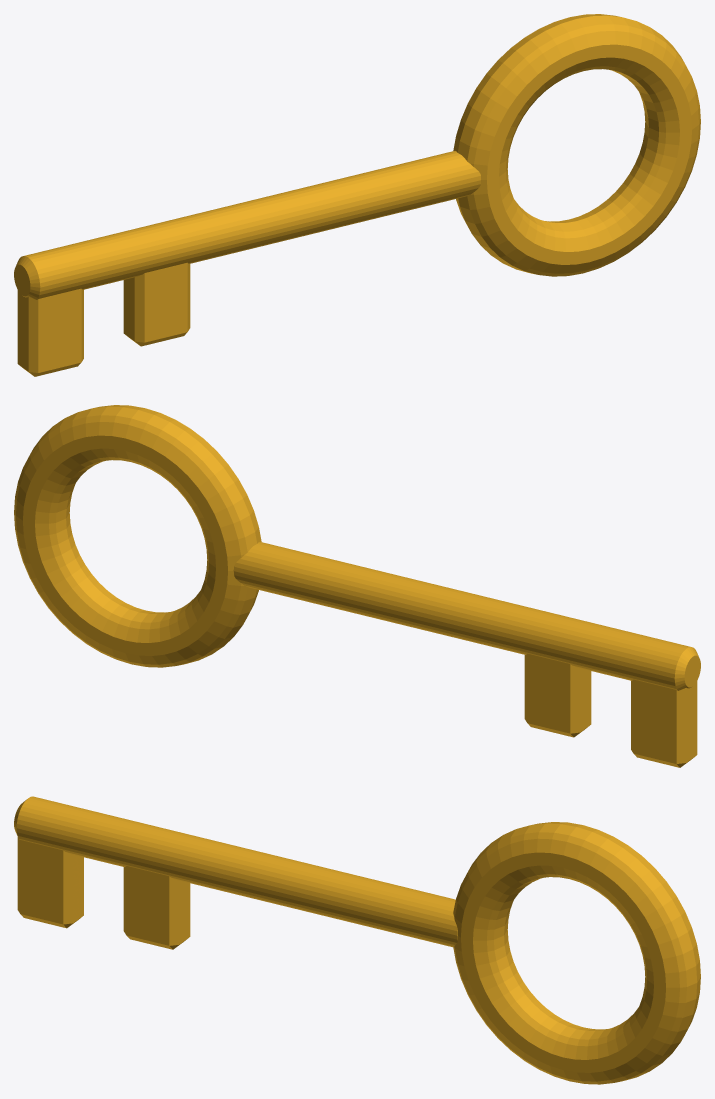
File: key.fbx
3 renders of one model, top to bottom at view 1: azimuth 30°, elevation 25°; view 2: azimuth 150°, elevation 25°; view 3: azimuth 330°, elevation 25°, orthographic.
Visible parts, largest first — view 1: Cube.001; view 2: Cube.001; view 3: Cube.001.
Boxes of the visible parts, box(x1,y1,x2,y2) form: Cube.001: box(14, 14, 700, 376); Cube.001: box(14, 405, 700, 767); Cube.001: box(14, 796, 700, 1084).
Size of the model in its own units: 3.07 by 1.1 by 0.2048.
